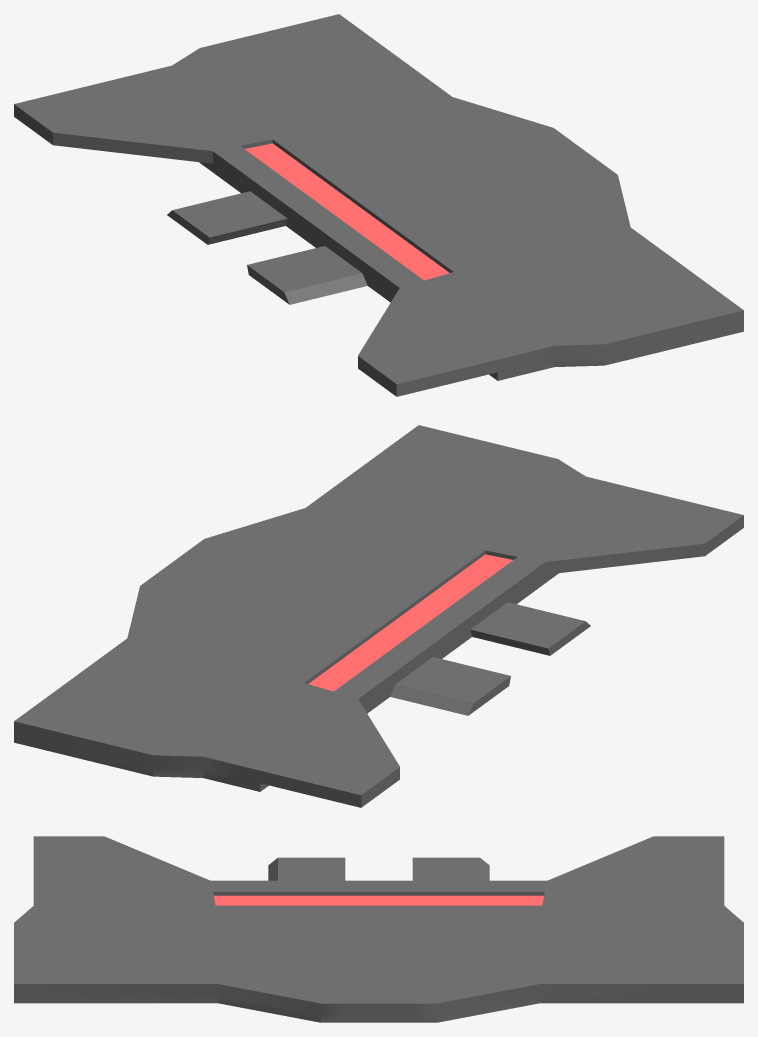
File: bridgeEmitter_red.fbx
3 views of the same model, one above another, from view 1: azimuth 30°, elevation 25°; view 2: azimuth 150°, elevation 25°; view 3: azimuth 270°, elevation 25° (orthographic). The views are drawn at different scales.
Parts seen in each view (by area): view 1: bridgeEmitter_red; view 2: bridgeEmitter_red; view 3: bridgeEmitter_red.
Part boxes in pixels (x1,y1,x2,y2): bridgeEmitter_red: (14,14,743,396); bridgeEmitter_red: (14,425,743,807); bridgeEmitter_red: (14,836,743,1022).
Bounding box in the file's own units: 4.04 × 0.2166 × 7.45.
